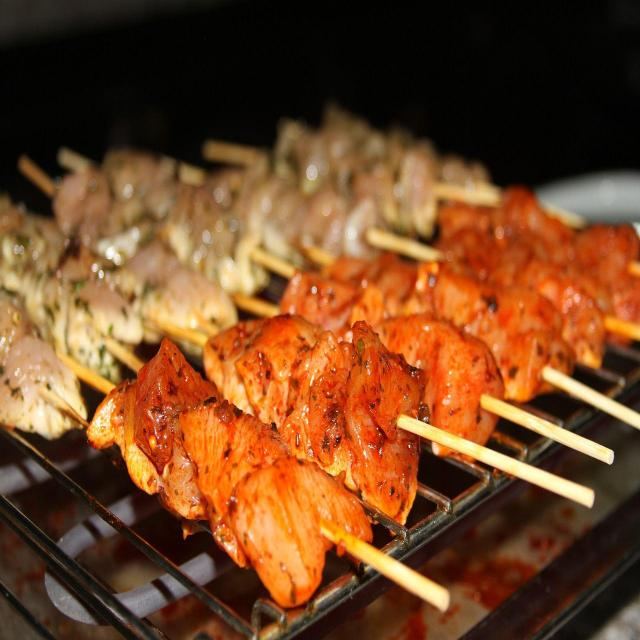Sate: (51, 87, 622, 640)
